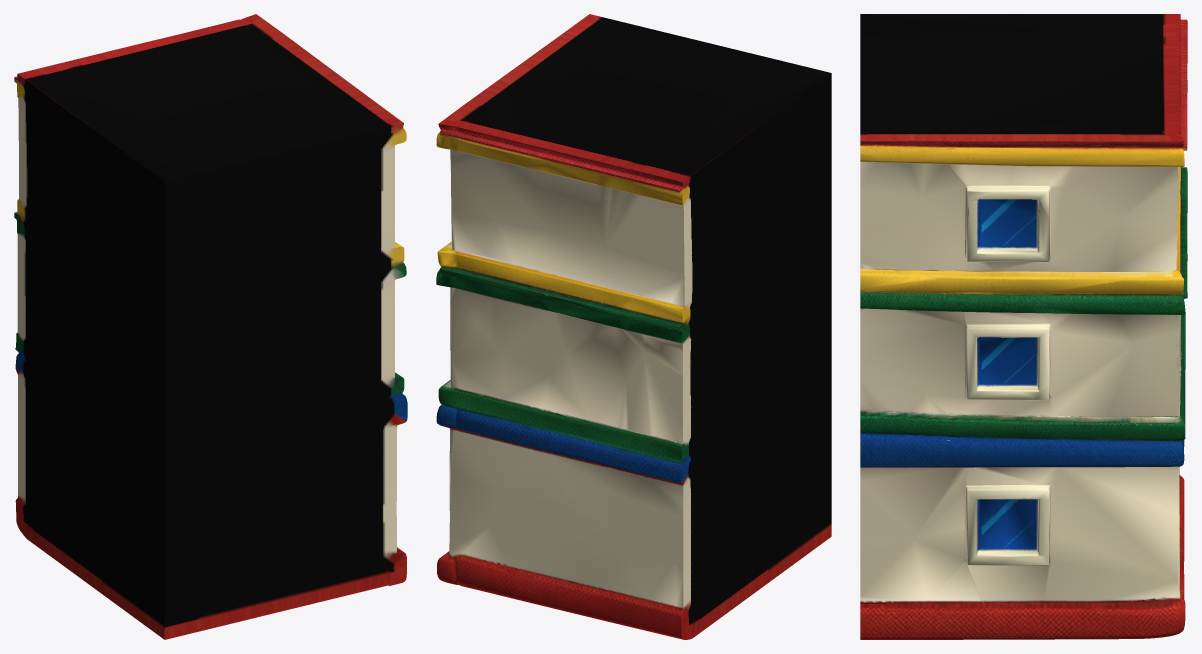
File: 4-ground-floor-back-right.fbx
3 renders of one model, left to right at view 1: azimuth 30°, elevation 25°; view 2: azimuth 150°, elevation 25°; view 3: azimuth 270°, elevation 25°, orthographic. The views are drawn at different scales.
Visible parts, largest first — view 1: ground-floor-back-right; view 2: ground-floor-back-right; view 3: ground-floor-back-right.
Part boxes in pixels (x1=…): ground-floor-back-right: x1=14, y1=14, x2=407, y2=639; ground-floor-back-right: x1=436, y1=14, x2=831, y2=639; ground-floor-back-right: x1=860, y1=14, x2=1187, y2=639.
Bounding box in the file's own units: 5044 × 9105 × 5409.
1 material, 1 textured.
